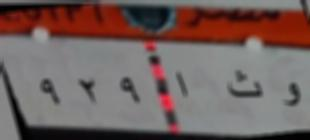2: (72, 67, 103, 109)
9: (34, 70, 67, 109), (116, 70, 145, 110)
alif: (173, 61, 196, 102)
thaa: (223, 65, 268, 104)
waw: (280, 78, 305, 113)
